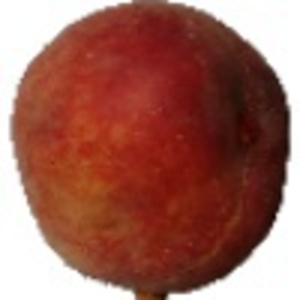pêssego: (9, 1, 292, 300)
